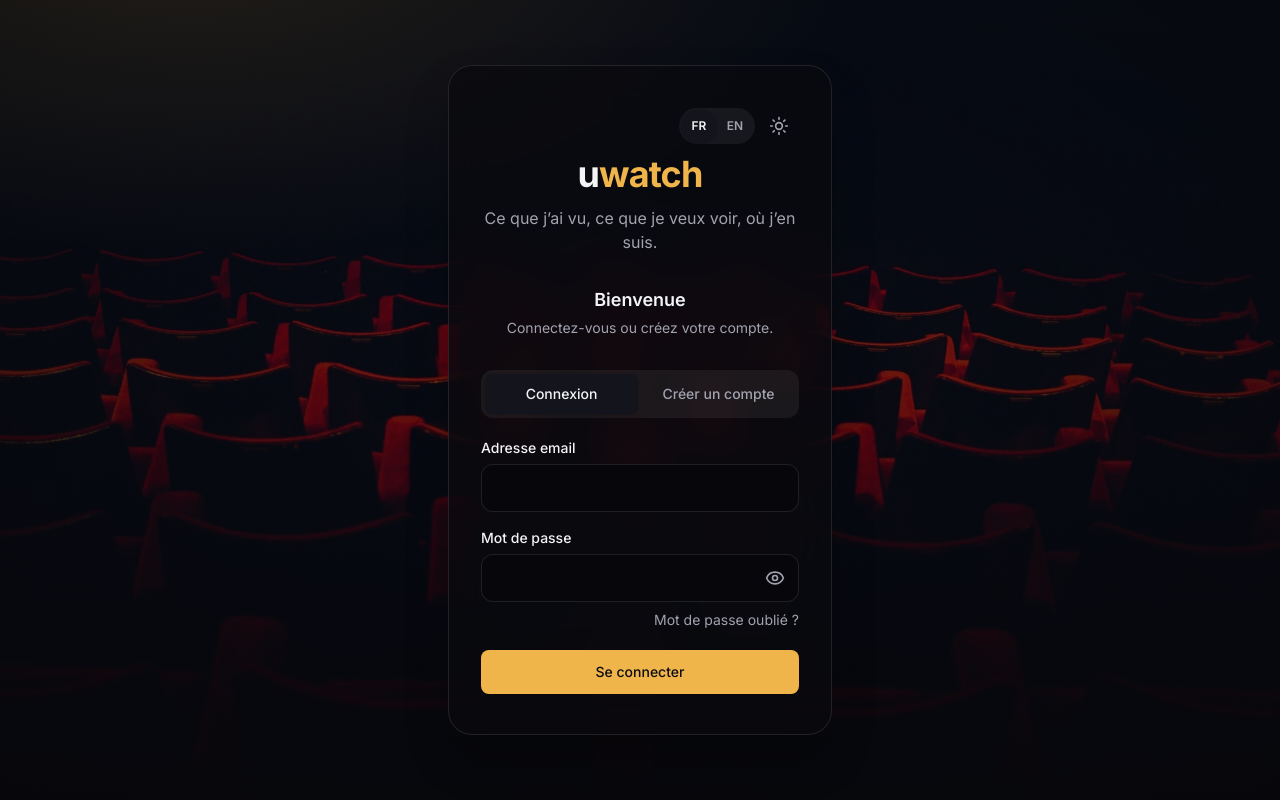
Test case: LoginPage › shows a clear message for wrong credentials, never the raw error
The width and height of the screenshot is (1280, 800).
Type "me@example.com" into the field labelled "Adresse email" at (640, 488), box [481, 464, 799, 512]
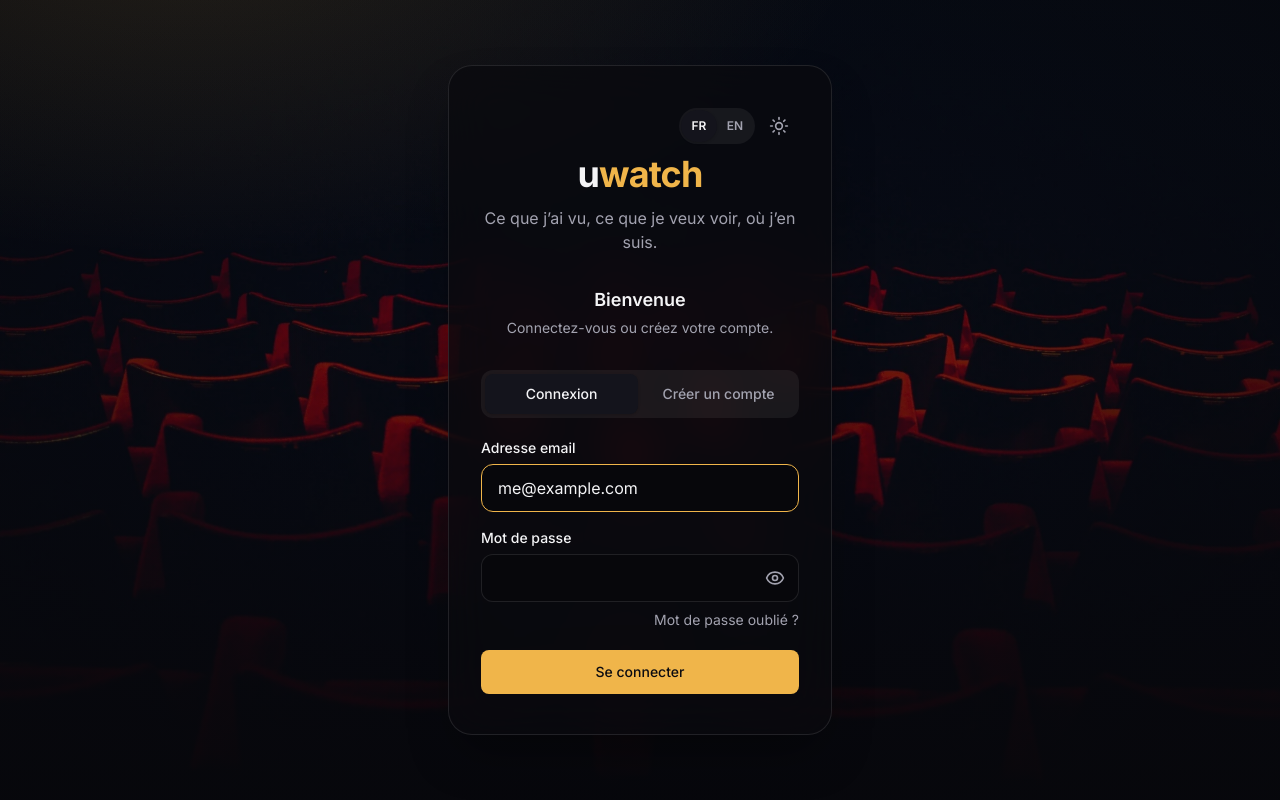
Type "wrong-pass1" into the password field labelled "Mot de passe" at (640, 578), box [481, 554, 799, 602]
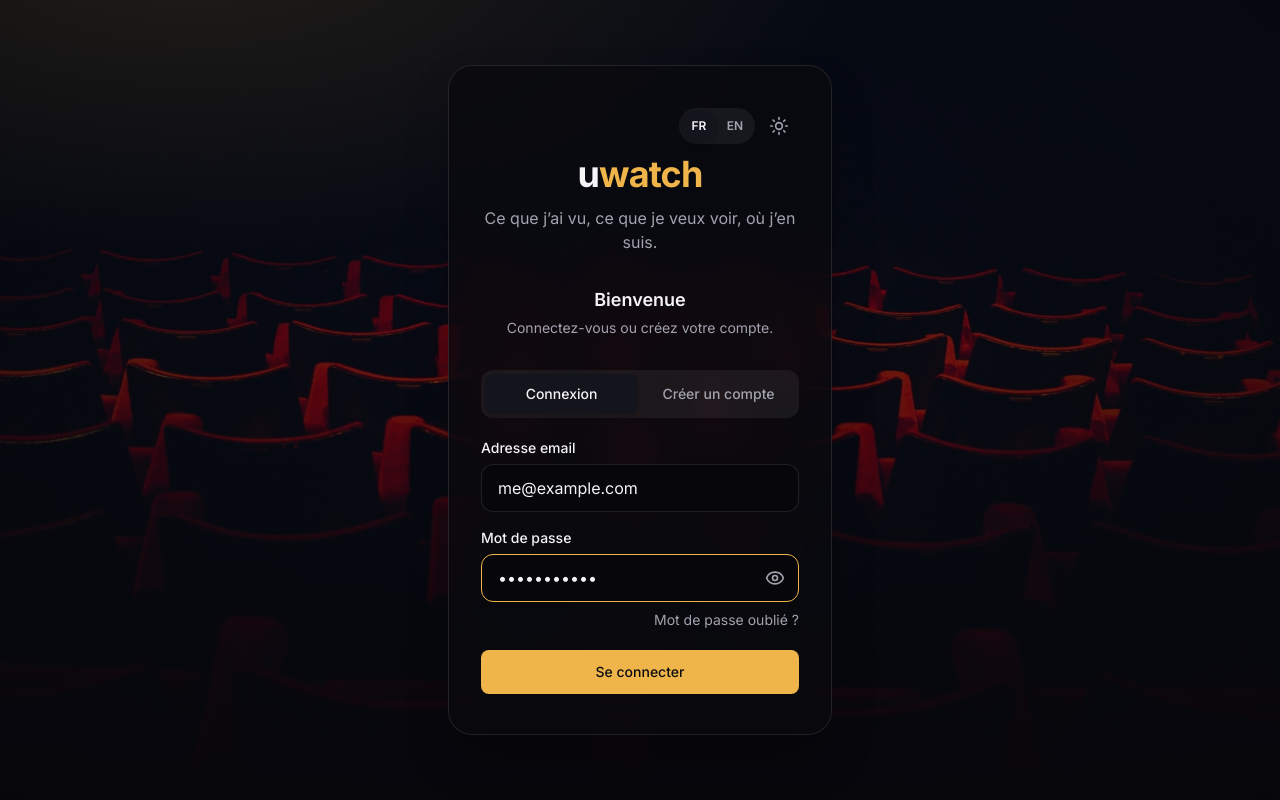
Click the button "Se connecter" at (640, 672), box [481, 650, 799, 694]
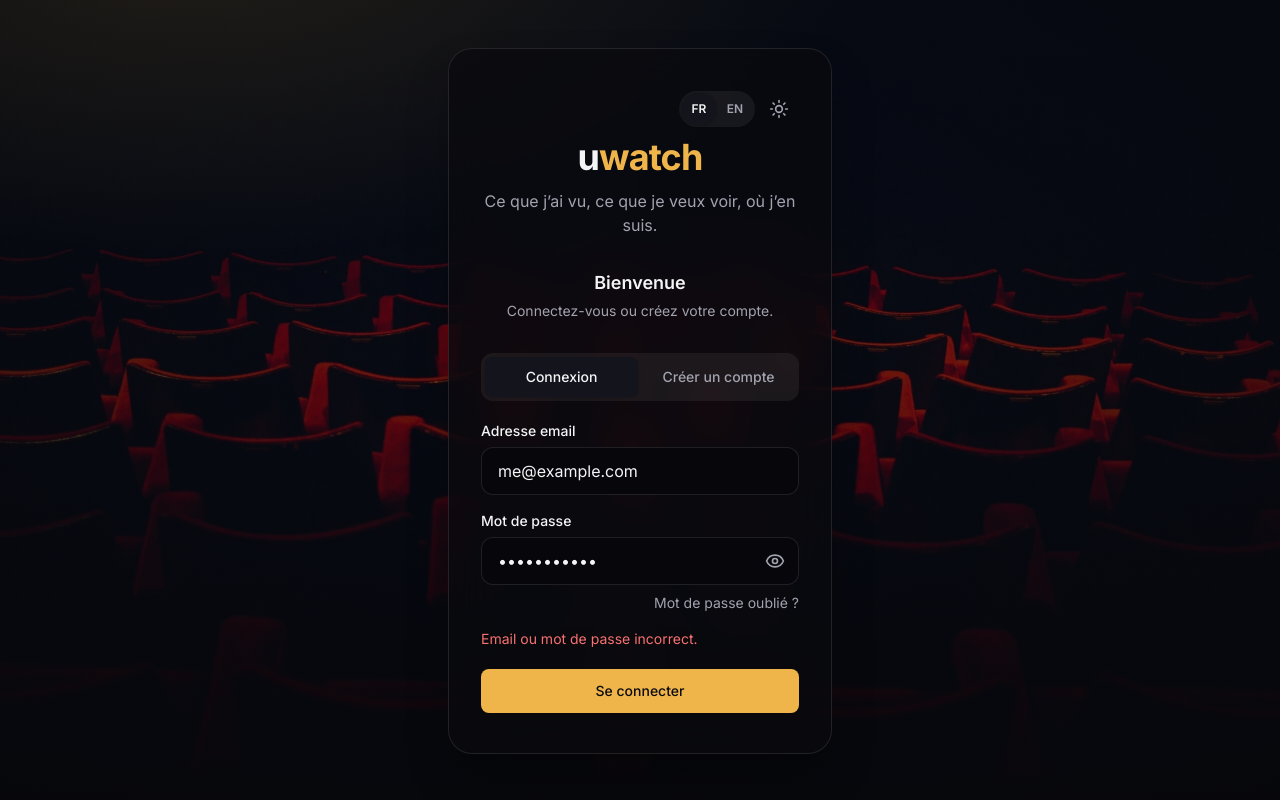
Expected: the message reads "Email ou mot de passe incorrect.", [481, 630, 698, 647]
